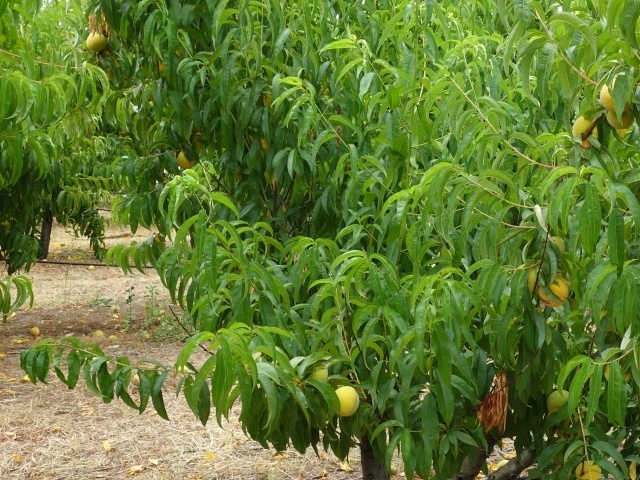peach: (596, 81, 631, 117), (330, 382, 363, 420), (536, 274, 571, 309), (569, 111, 603, 143), (543, 385, 574, 419), (603, 103, 638, 133), (306, 359, 334, 391), (572, 454, 604, 479), (81, 30, 109, 56), (173, 149, 197, 173)
